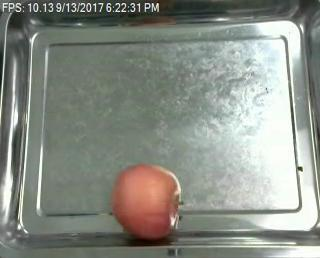apple: (111, 164, 181, 241)
